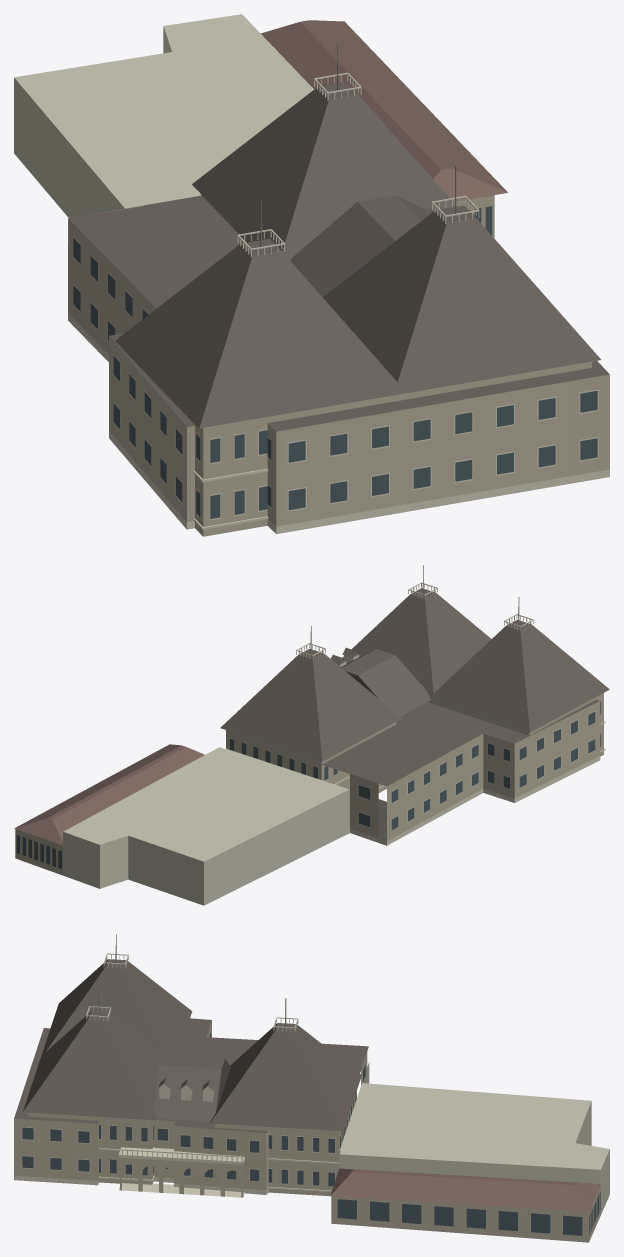
File: chateau-elan-winery-near.glb
3 views of the same model, one above another, from view 1: azimuth 30°, elevation 25°; view 2: azimuth 150°, elevation 25°; view 3: azimuth 270°, elevation 25° (orthographic). The views are drawn at different scales.
Visible parts, largest first — view 1: chateau-elan-winery-0-roof, chateau-elan-winery-0-stone, chateau-elan-winery-0-annex, chateau-elan-winery-0-tile, chateau-elan-winery-0-trim, chateau-elan-winery-0-glass; view 2: chateau-elan-winery-0-roof, chateau-elan-winery-0-annex, chateau-elan-winery-0-stone, chateau-elan-winery-0-tile, chateau-elan-winery-0-glass, chateau-elan-winery-0-trim; view 3: chateau-elan-winery-0-roof, chateau-elan-winery-0-annex, chateau-elan-winery-0-stone, chateau-elan-winery-0-tile, chateau-elan-winery-0-glass, chateau-elan-winery-0-trim.
Part boxes in pixels (x1,y1,x2,y2): chateau-elan-winery-0-roof: [69, 82, 609, 431]; chateau-elan-winery-0-stone: [68, 195, 609, 536]; chateau-elan-winery-0-annex: [14, 14, 313, 320]; chateau-elan-winery-0-tile: [261, 20, 507, 201]; chateau-elan-winery-0-trim: [68, 72, 609, 534]; chateau-elan-winery-0-glass: [73, 206, 597, 518]; chateau-elan-winery-0-roof: [220, 588, 609, 786]; chateau-elan-winery-0-annex: [63, 747, 386, 905]; chateau-elan-winery-0-stone: [15, 693, 603, 875]; chateau-elan-winery-0-tile: [14, 744, 204, 845]; chateau-elan-winery-0-glass: [16, 701, 601, 868]; chateau-elan-winery-0-trim: [229, 582, 605, 845]; chateau-elan-winery-0-roof: [14, 959, 368, 1133]; chateau-elan-winery-0-annex: [339, 1062, 609, 1215]; chateau-elan-winery-0-stone: [14, 1020, 600, 1242]; chateau-elan-winery-0-tile: [330, 1168, 600, 1211]; chateau-elan-winery-0-glass: [22, 1032, 600, 1235]; chateau-elan-winery-0-trim: [14, 953, 365, 1197].
Size of the model in its own units: 64.72 by 29.5 by 94.61.
